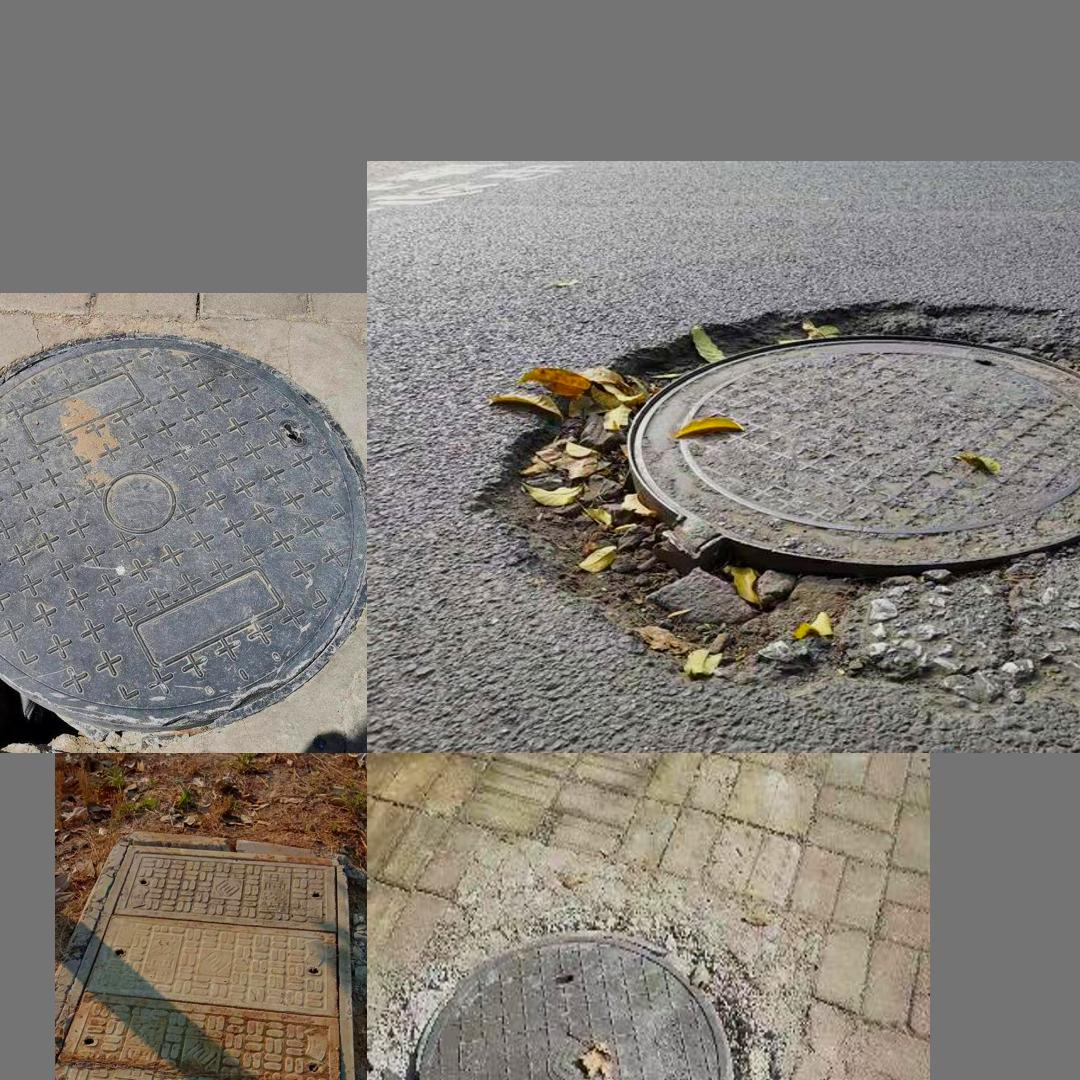circle: (493, 299, 1080, 687), (0, 335, 356, 740), (55, 833, 362, 1080), (367, 909, 789, 1080)
